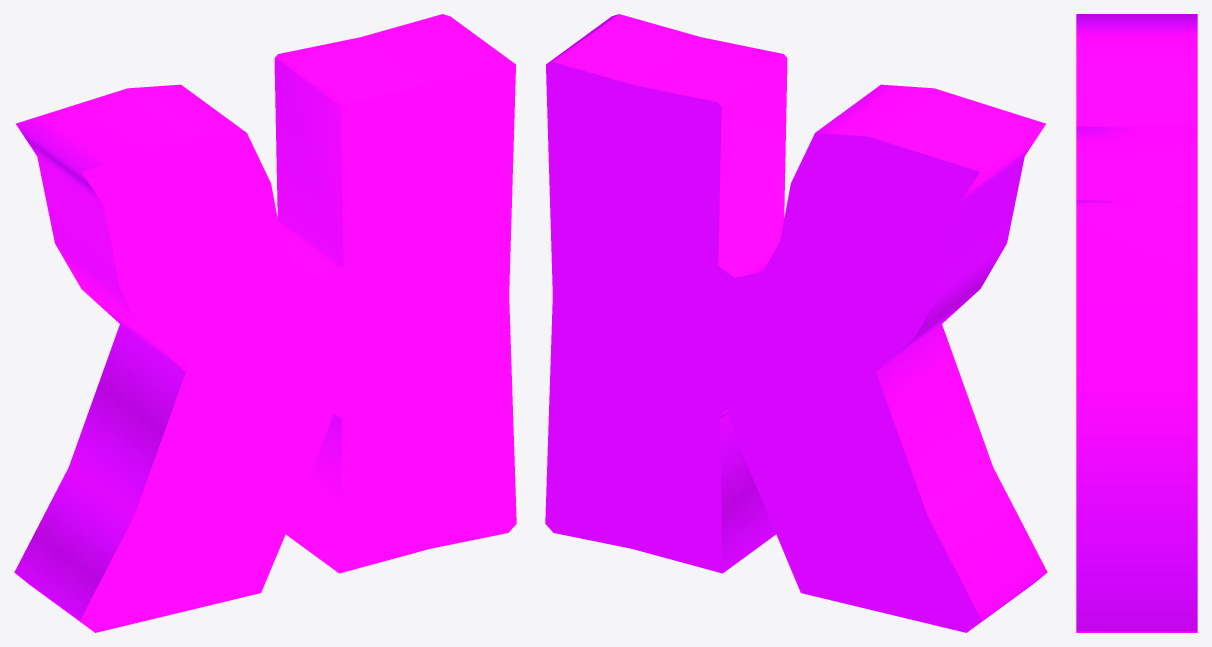
The model's file is purple_k.glb.
3 renders of one model, left to right at view 1: azimuth 30°, elevation 25°; view 2: azimuth 150°, elevation 25°; view 3: azimuth 270°, elevation 25°, orthographic. The views are drawn at different scales.
Parts seen in each view (by area): view 1: Purple_K; view 2: Purple_K; view 3: Purple_K.
Boxes of the visible parts, x1,y1,x2,y2 form: Purple_K: (14,14,516,632); Purple_K: (545,14,1047,632); Purple_K: (1076,14,1197,632).
Bounding box in the file's own units: 0.4227 × 0.4379 × 0.1104.
1 material, 1 textured.
